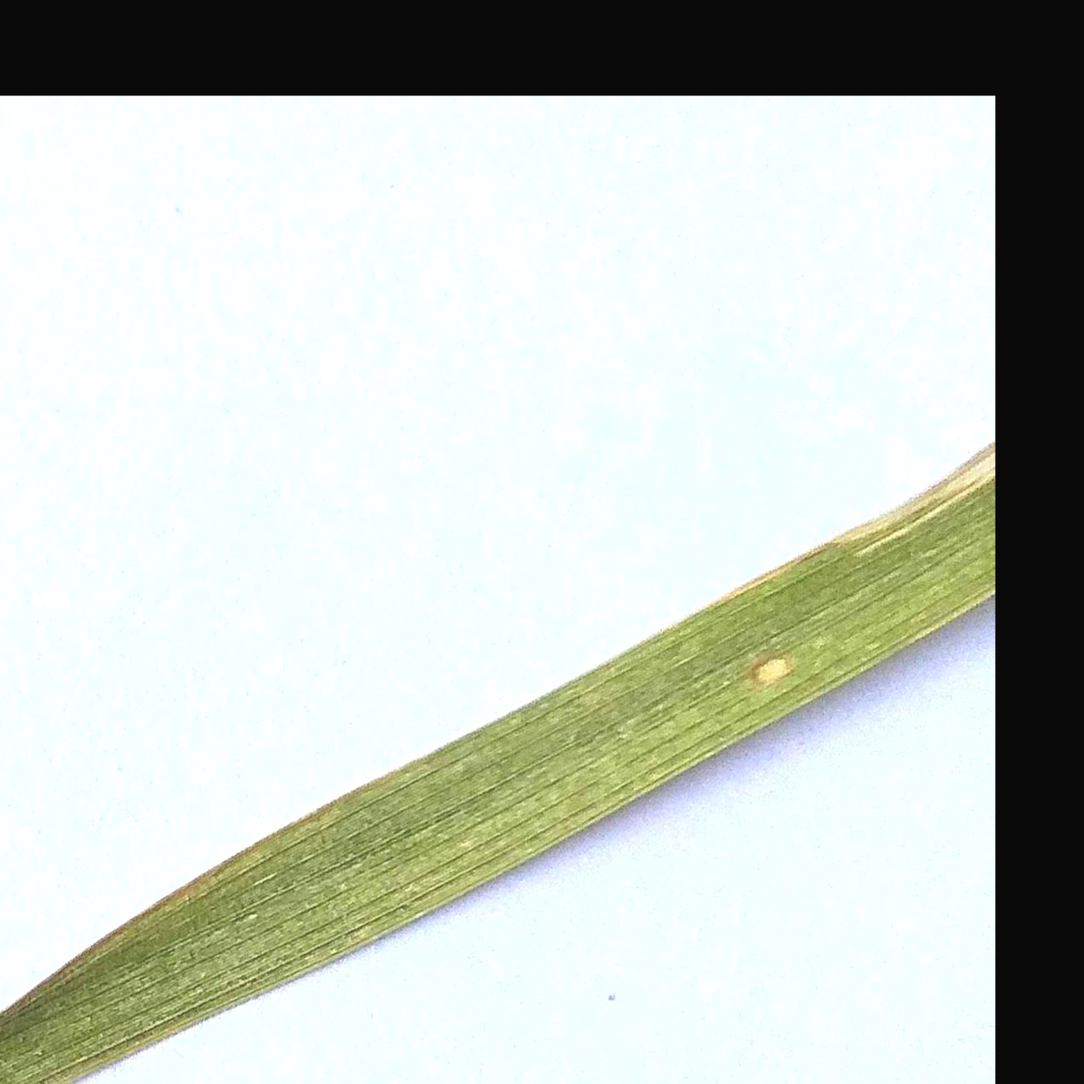Brown_Spot: (733, 624, 799, 692)
